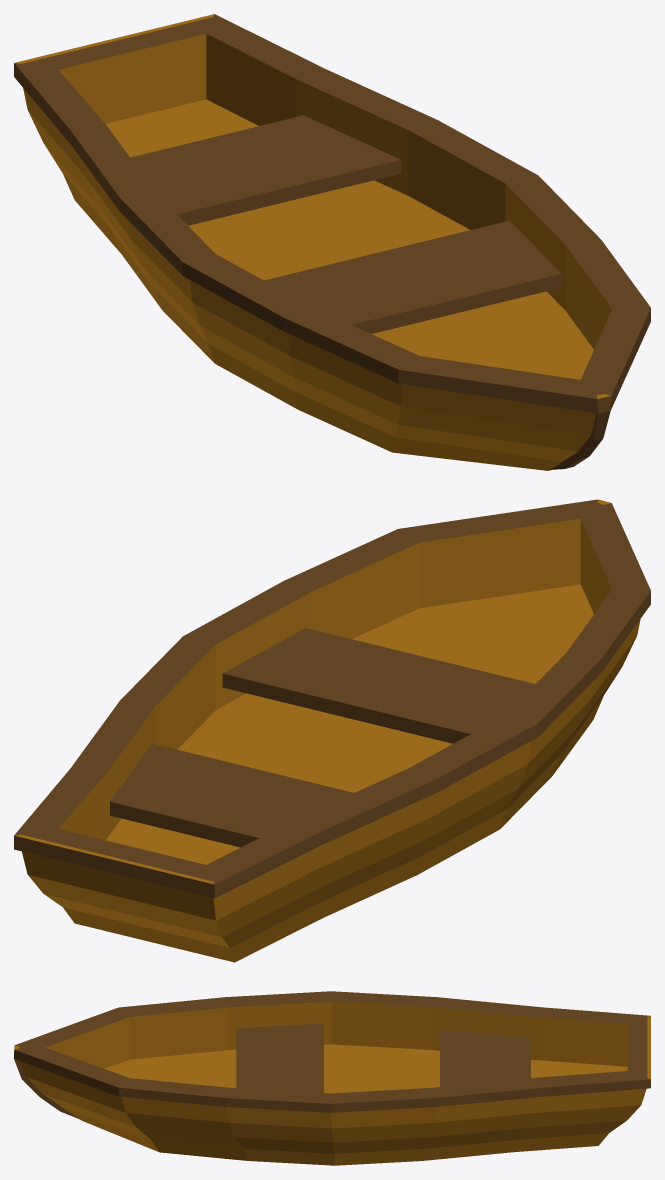
File: boat2.glb
3 views of the same model, one above another, from view 1: azimuth 30°, elevation 25°; view 2: azimuth 150°, elevation 25°; view 3: azimuth 270°, elevation 25° (orthographic). The views are drawn at different scales.
Parts seen in each view (by area): view 1: Cube; view 2: Cube; view 3: Cube.
Boxes of the visible parts, bbox=[...] form: Cube: bbox=[14, 14, 650, 470]; Cube: bbox=[14, 499, 650, 962]; Cube: bbox=[14, 991, 650, 1165].
Bounding box in the file's own units: 4.87 × 1.47 × 11.64.
